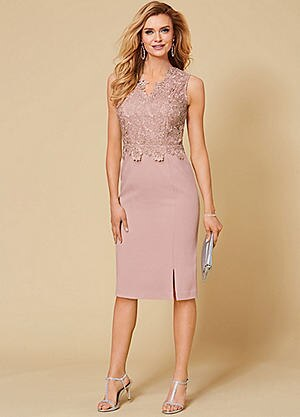C_dress: (100, 66, 206, 303)
